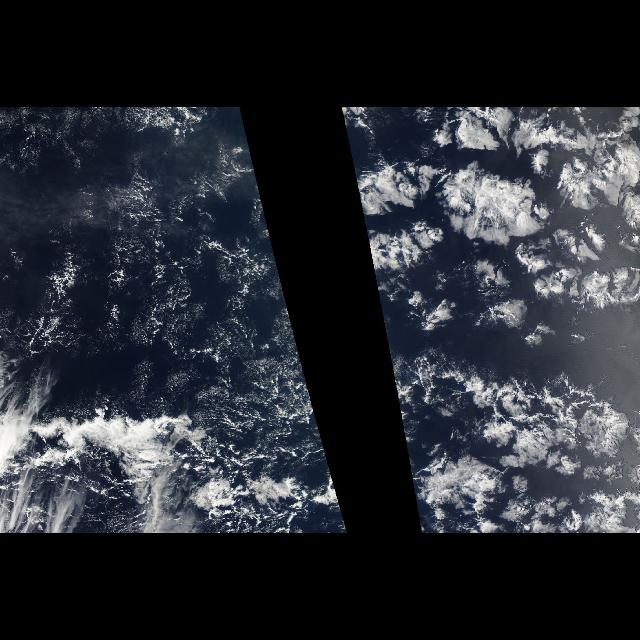Flower: (354, 108, 640, 356), (402, 369, 640, 529)
Gravel: (210, 328, 318, 464)
Sugar: (6, 112, 292, 386)
